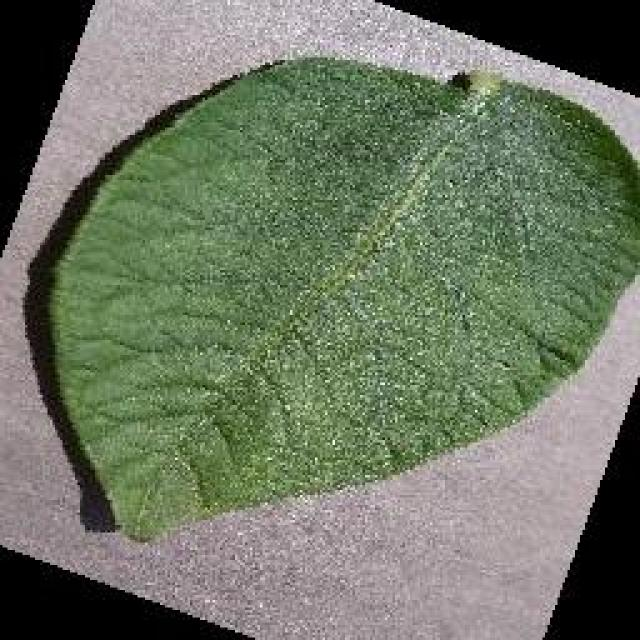Potato___healthy: (43, 51, 638, 549)
